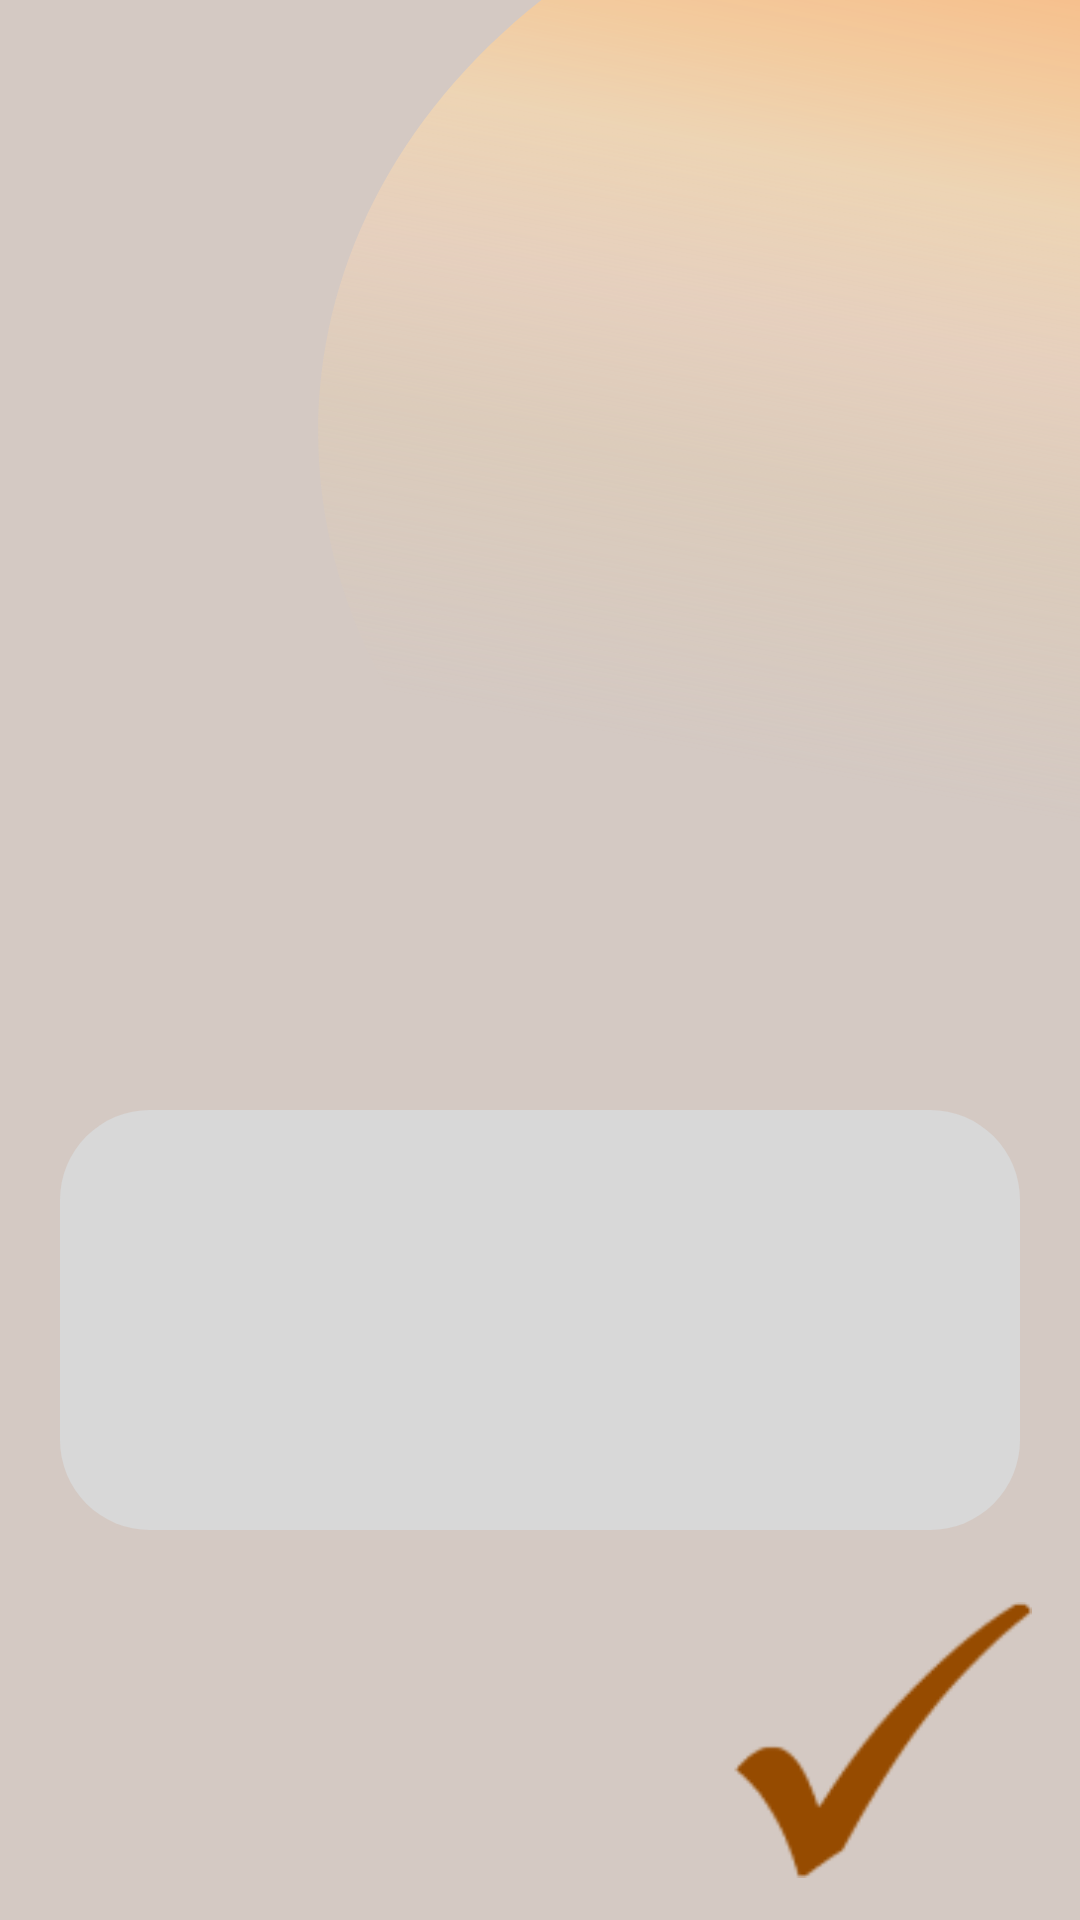

Named icons in this screenshot (1080x1920) and their centers, (x,y):
Mark place as visited: (883,1740)
